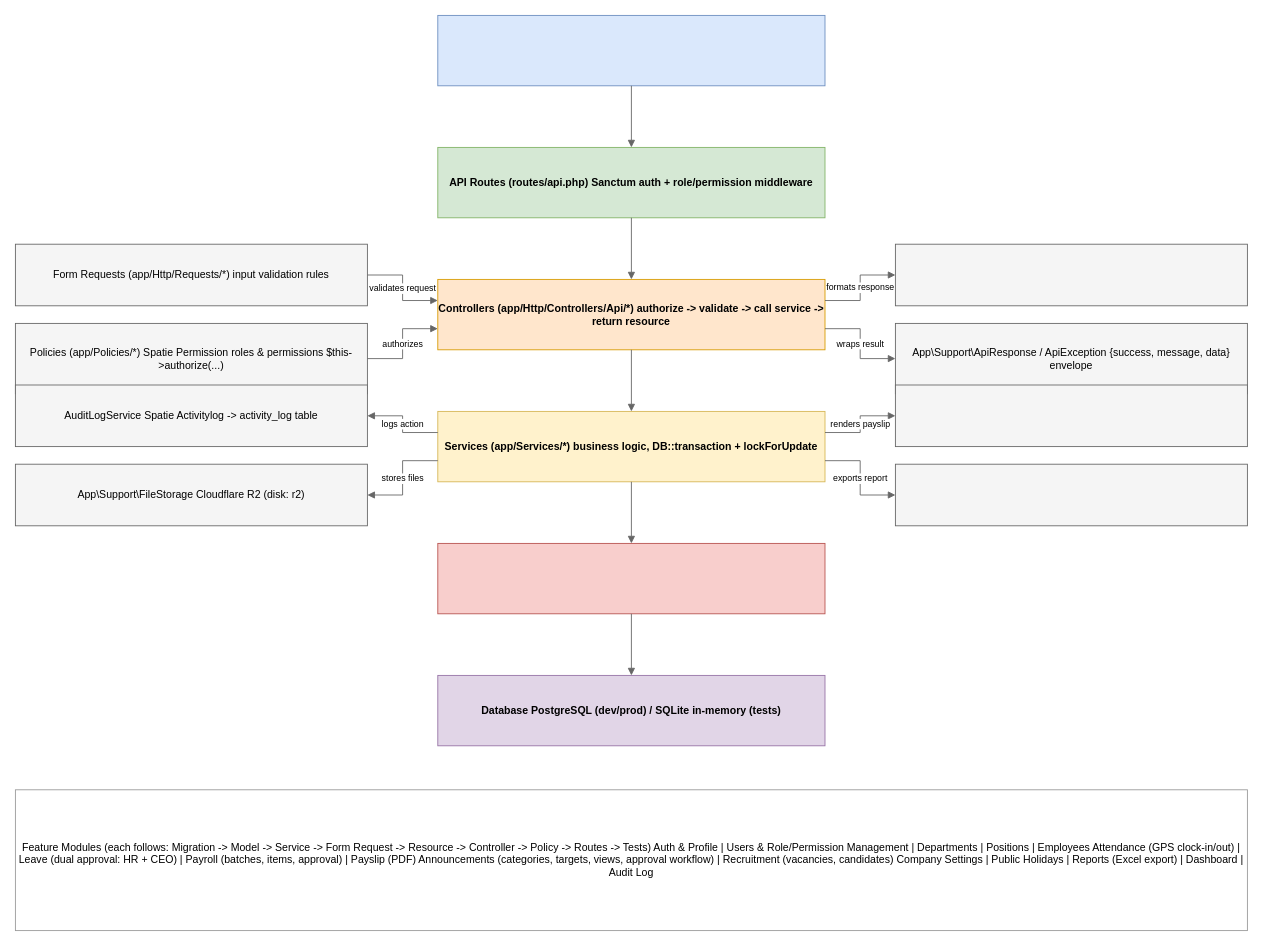
Some shapes in this 1263 by 946 pixel diagram are drawn without their labels. The box of each missing label's shape, as (x1, y1, x2, y2) in pixels:
API Resources (app/Http/Resources/*) response shaping: (895, 243, 1247, 306)
Client (Frontend SPA / Mobile App): (437, 15, 825, 86)
DomPDF Payslip PDF generation: (895, 384, 1247, 447)
Eloquent Models (app/Models/*) Fillable attribute, casts(), relationships: (437, 543, 825, 614)
Laravel Excel Report .xlsx exports: (895, 463, 1247, 526)
